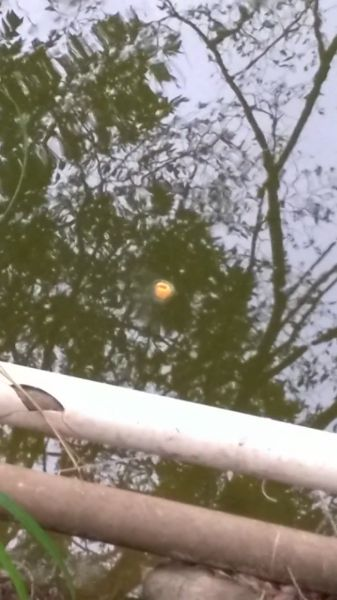eggs: (151, 275, 176, 301)
